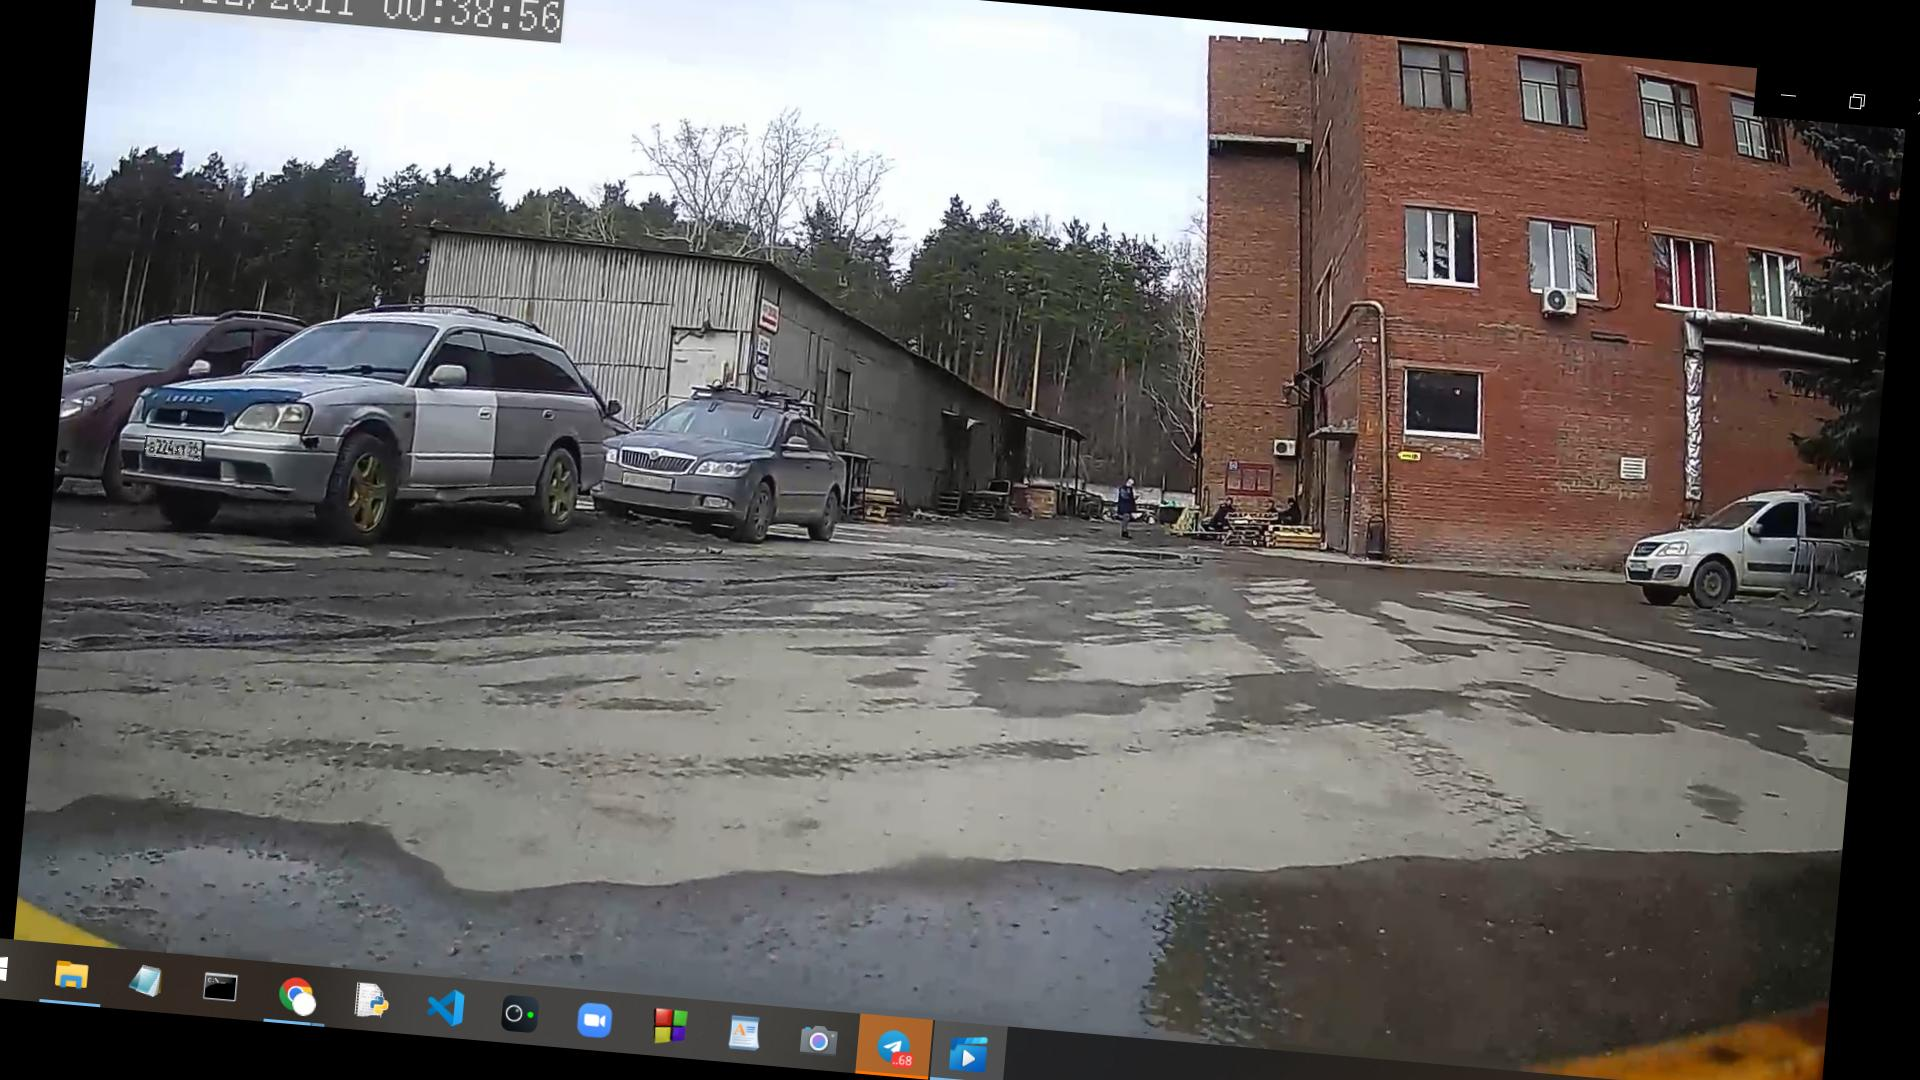plate: (145, 437, 203, 462), (625, 474, 677, 492)
